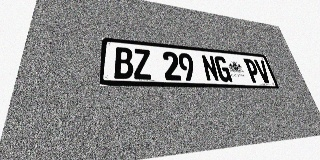2: (162, 51, 181, 81)
9: (177, 52, 197, 81)
B: (114, 47, 134, 79)
G: (213, 56, 233, 82)
N: (201, 55, 220, 82)
P: (243, 58, 262, 83)
V: (254, 59, 272, 83)
Z: (133, 48, 152, 80)
